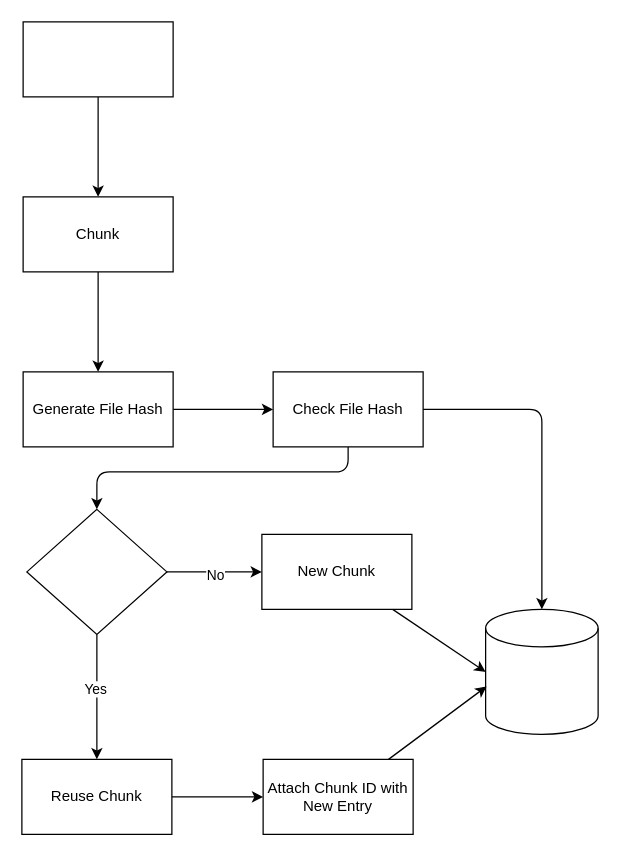
Some shapes in this 620 by 856 pixel diagram are drawn without their labels. The shapes that lost their labels are listed below. From the top down, each one's centre as x and y in pixels, then its label:
point 97,59: Input
point 96,571: if Duplicate?
point 541,671: Vector Store
